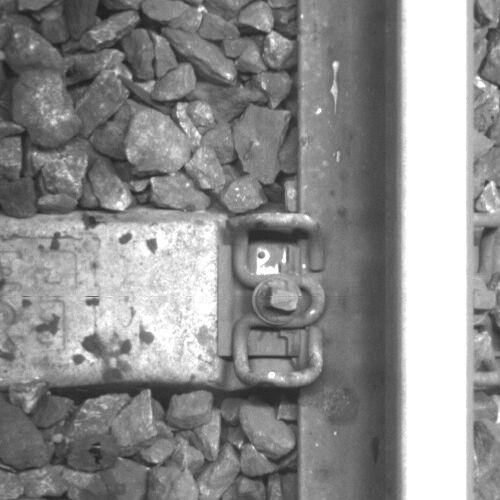rail: (400, 1, 473, 500)
tie_concr: (1, 220, 295, 388)
vossloh: (217, 211, 324, 389)
